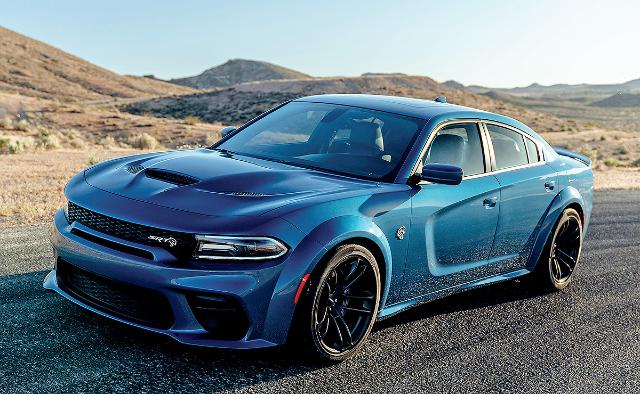dodge: (42, 94, 594, 366)
